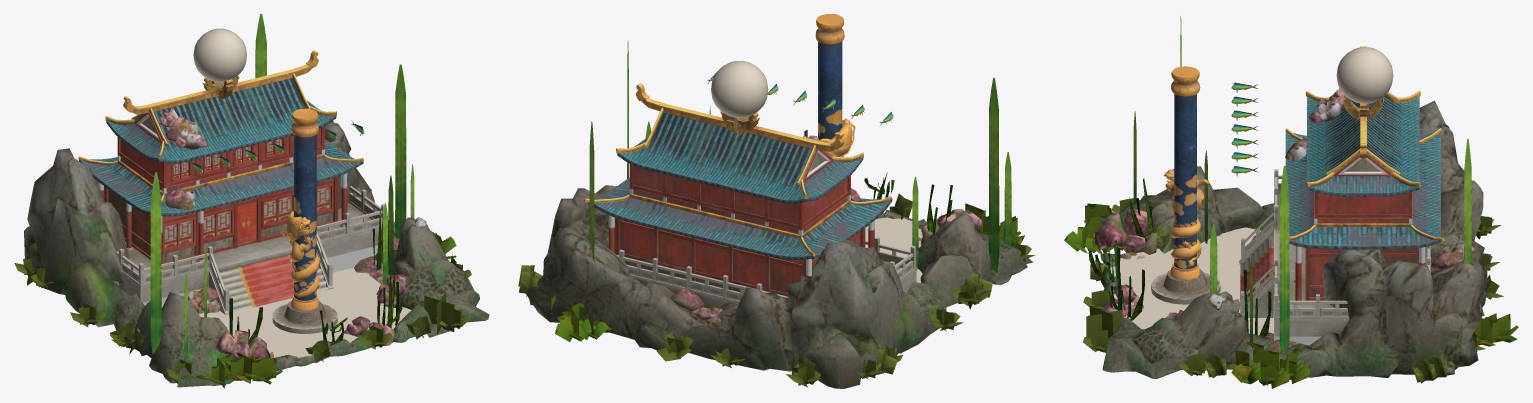
The model's file is 91-wonder-fuxi.glb.
The picture shows the model from 3 angles, left to right: view 1: azimuth 30°, elevation 25°; view 2: azimuth 150°, elevation 25°; view 3: azimuth 270°, elevation 25°; orthographic projection. The views are drawn at different scales.
Size of the model in its own units: 19.03 by 11.91 by 19.39.
11 materials, 9 textured.
